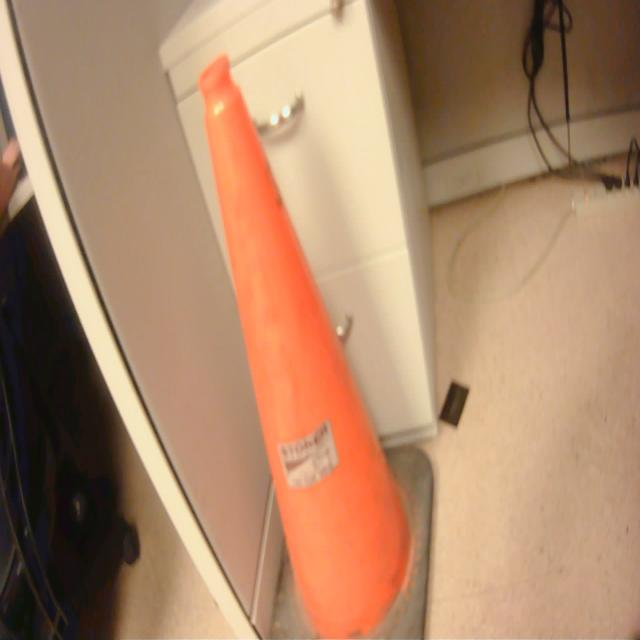traffic cone: (195, 46, 446, 640)
